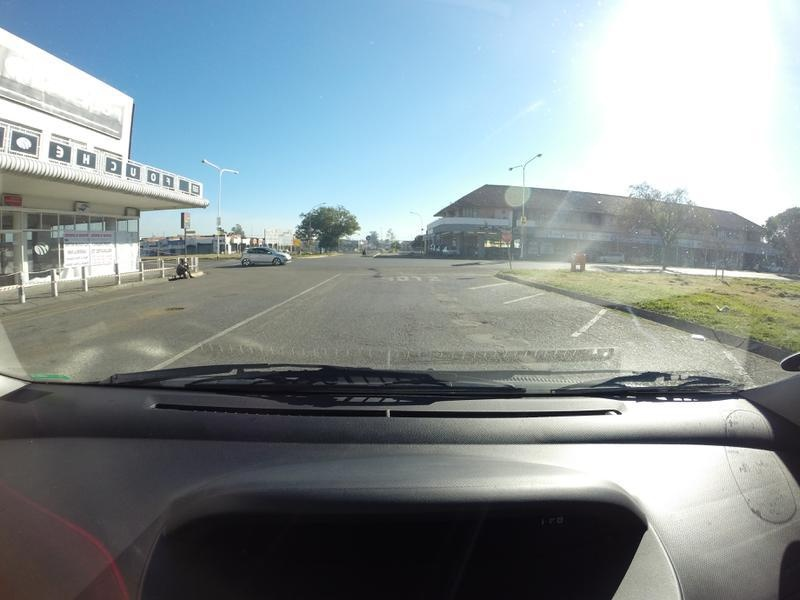pothole: (453, 315, 486, 329), (159, 303, 183, 311)
